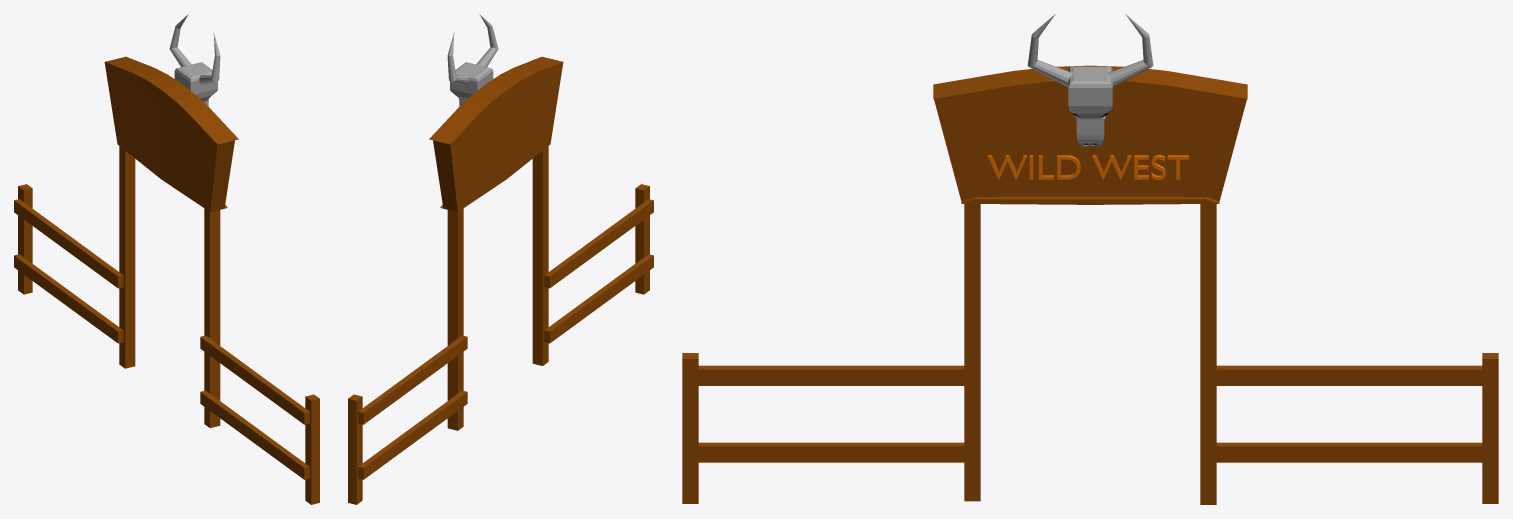
The model's file is Fence 1.fbx.
The picture shows the model from 3 angles, left to right: view 1: azimuth 30°, elevation 25°; view 2: azimuth 150°, elevation 25°; view 3: azimuth 270°, elevation 25°; orthographic projection. The views are drawn at different scales.
Visible parts, largest first — view 1: Fence; view 2: Fence; view 3: Fence.
Boxes of the visible parts, x1,y1,x2,y2 form: Fence: [14, 14, 319, 504]; Fence: [348, 14, 653, 504]; Fence: [682, 14, 1498, 504].
Bounding box in the file's own units: 104 × 713 × 1037.
